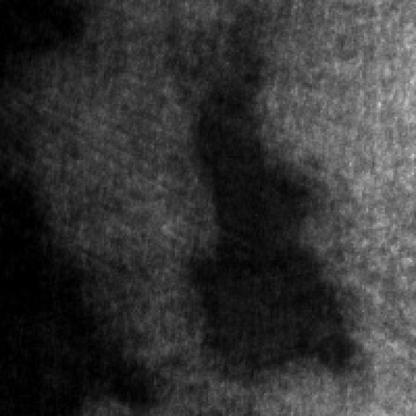patches: (183, 52, 351, 374), (0, 149, 110, 414), (0, 0, 94, 69)
